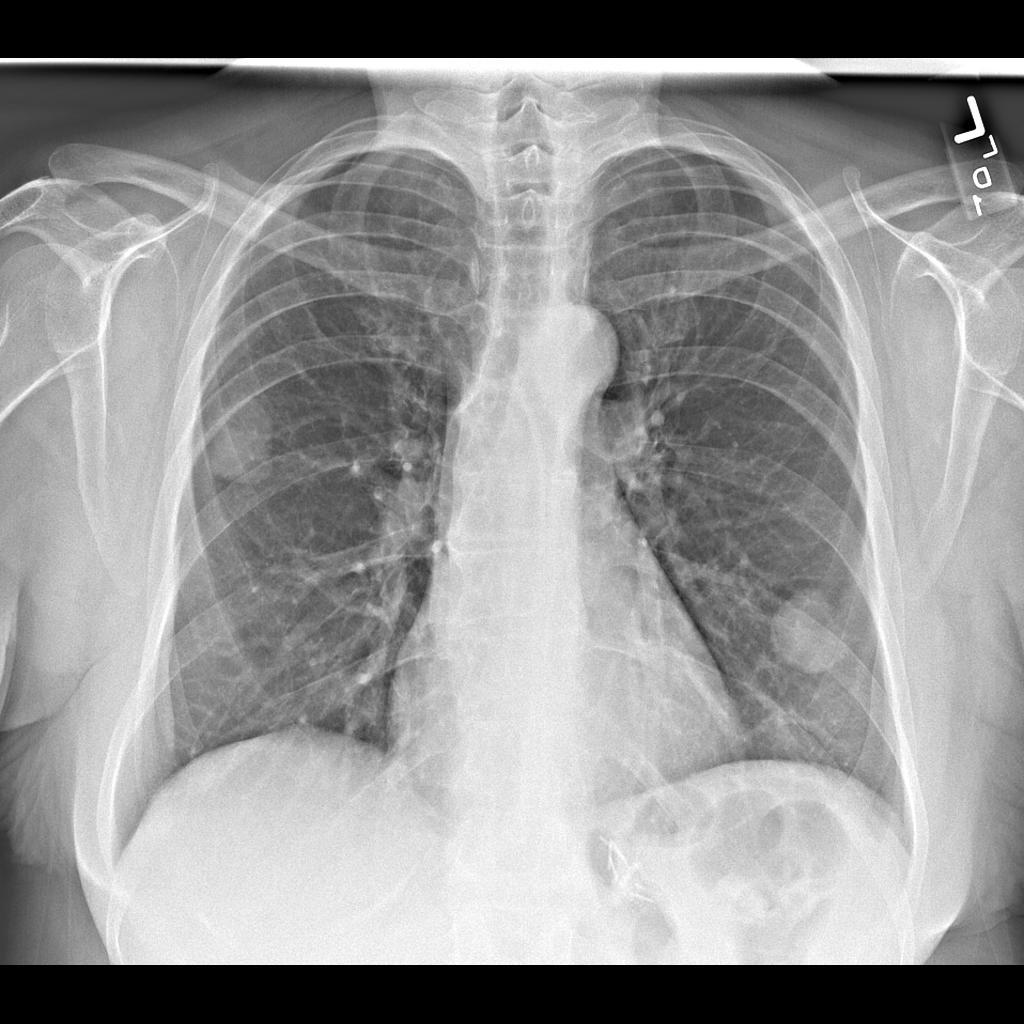Nodule: (767, 580, 861, 683), (198, 388, 281, 495)
